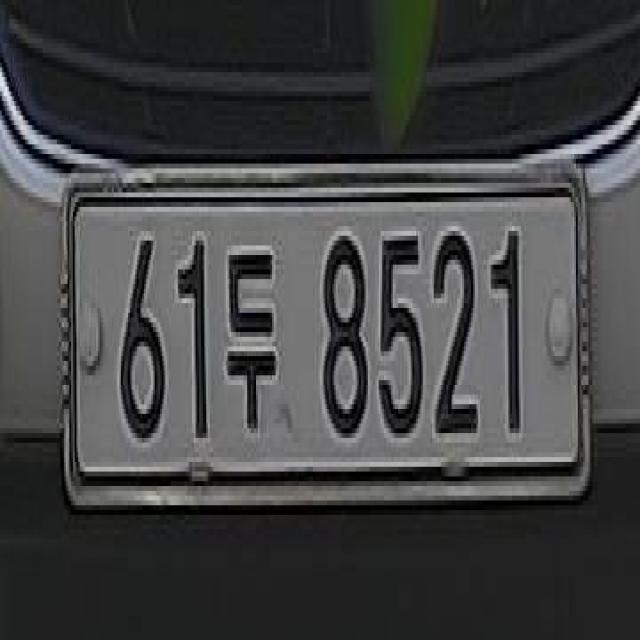1: (487, 214, 533, 443), (172, 223, 216, 448)
2: (429, 214, 483, 447)
5: (374, 218, 424, 442)
6: (113, 222, 167, 444)
8: (318, 216, 370, 444)
du: (223, 222, 277, 448)
license_plate: (54, 148, 596, 518)
